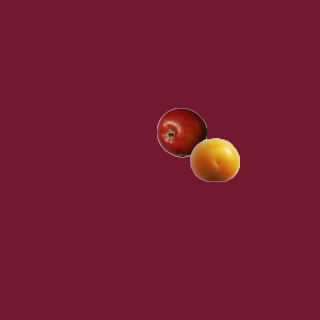Apple Braeburn: (156, 107, 206, 157)
Cherry Wax Yellow: (189, 134, 239, 184)
